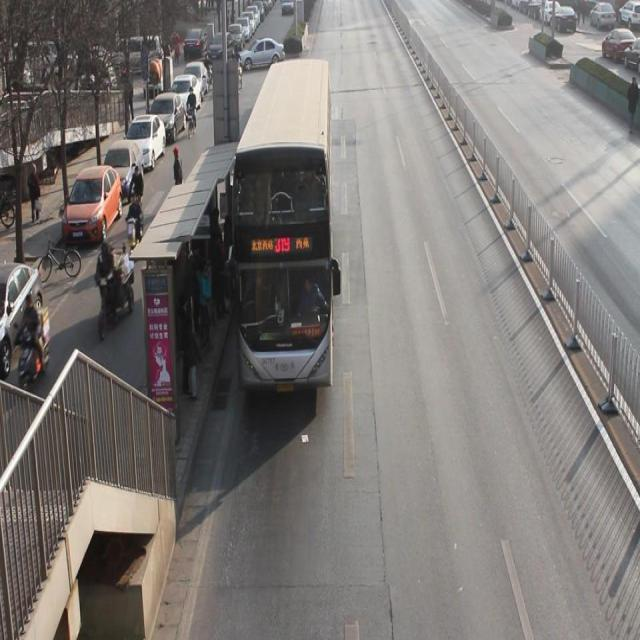van: (232, 58, 331, 385)
